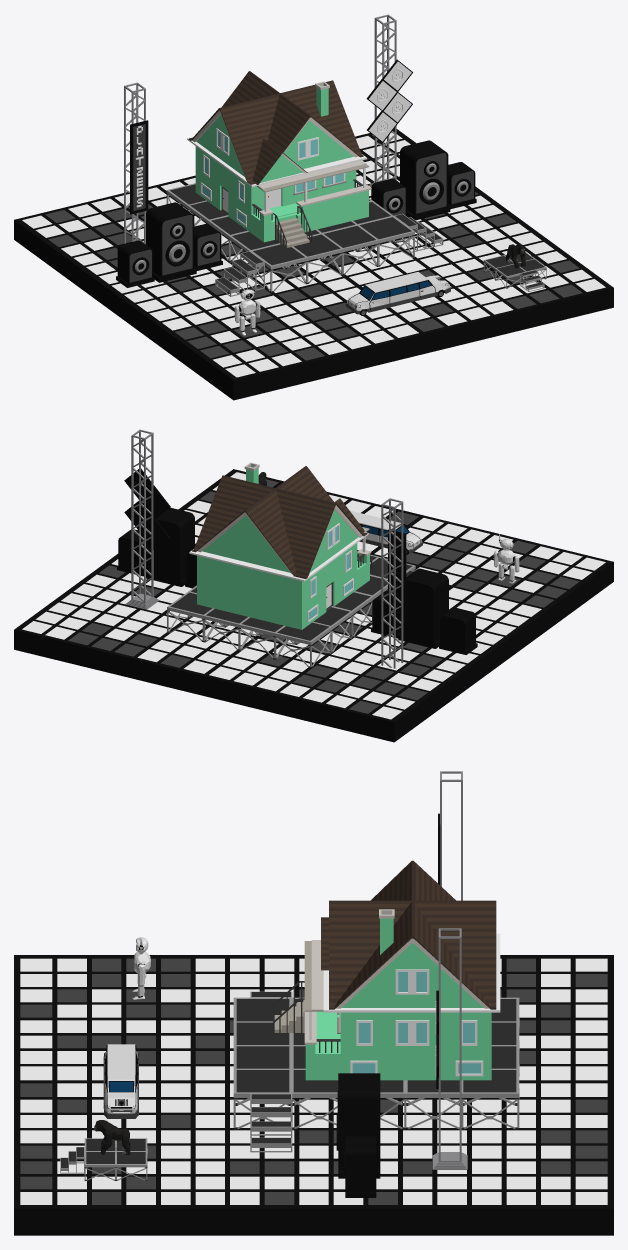
3 views of the same model, one above another, from view 1: azimuth 30°, elevation 25°; view 2: azimuth 150°, elevation 25°; view 3: azimuth 270°, elevation 25° (orthographic). The views are drawn at different scales.
Visible parts, largest first — view 1: Cube.008, Cube.352, VEHICLES_LIMOUSINE, OBJRANDOM_PLATZEEBOT; view 2: Cube.008, Cube.352, VEHICLES_LIMOUSINE, OBJRANDOM_PLATZEEBOT; view 3: Cube.008, Cube.352, VEHICLES_LIMOUSINE, ANIMAL_GORILA, OBJRANDOM_PLATZEEBOT.
Part boxes in pixels (x1,y1,x2,y2): Cube.008: (14, 14, 613, 400); Cube.352: (187, 71, 371, 248); VEHICLES_LIMOUSINE: (345, 272, 450, 315); OBJRANDOM_PLATZEEBOT: (234, 284, 260, 335); Cube.008: (14, 429, 613, 742); Cube.352: (189, 462, 372, 629); VEHICLES_LIMOUSINE: (350, 510, 423, 554); OBJRANDOM_PLATZEEBOT: (493, 534, 519, 583); Cube.008: (14, 771, 613, 1235); Cube.352: (272, 860, 500, 1080); VEHICLES_LIMOUSINE: (103, 1044, 138, 1118); ANIMAL_GORILA: (94, 1120, 130, 1154); OBJRANDOM_PLATZEEBOT: (132, 937, 150, 999).
Size of the model in its own units: 4000 by 1972 by 4000.
38 materials, 1 textured.
